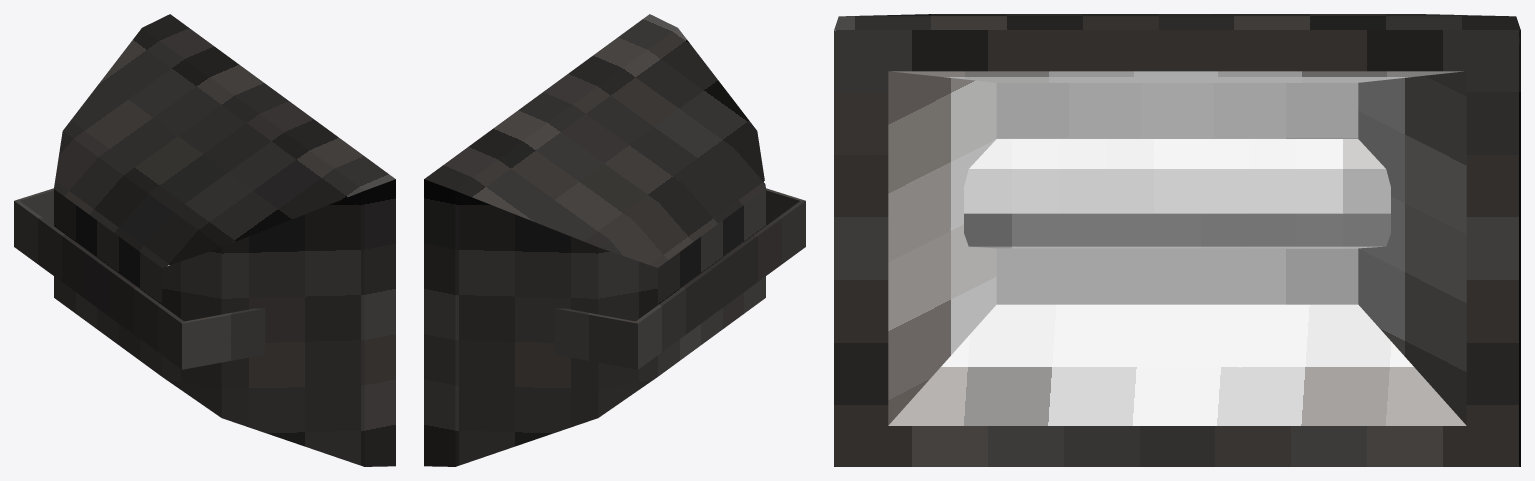
File: flood_lamp_top.obj
3 views of the same model, side by side, from view 1: azimuth 30°, elevation 25°; view 2: azimuth 150°, elevation 25°; view 3: azimuth 270°, elevation 25° (orthographic). The views are drawn at different scales.
Parts seen in each view (by area): view 1: FloodLamp; view 2: FloodLamp; view 3: FloodLamp.
Boxes of the visible parts, x1=… form: FloodLamp: x1=14, y1=14, x2=395, y2=466; FloodLamp: x1=424, y1=14, x2=805, y2=466; FloodLamp: x1=834, y1=14, x2=1520, y2=466.
Size of the model in its own units: 0.3077 by 0.4563 by 0.6502.
